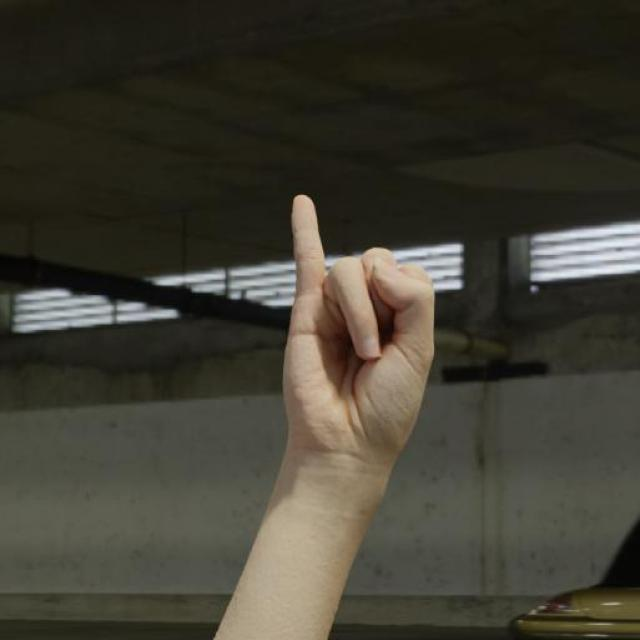I: (278, 191, 441, 468)
